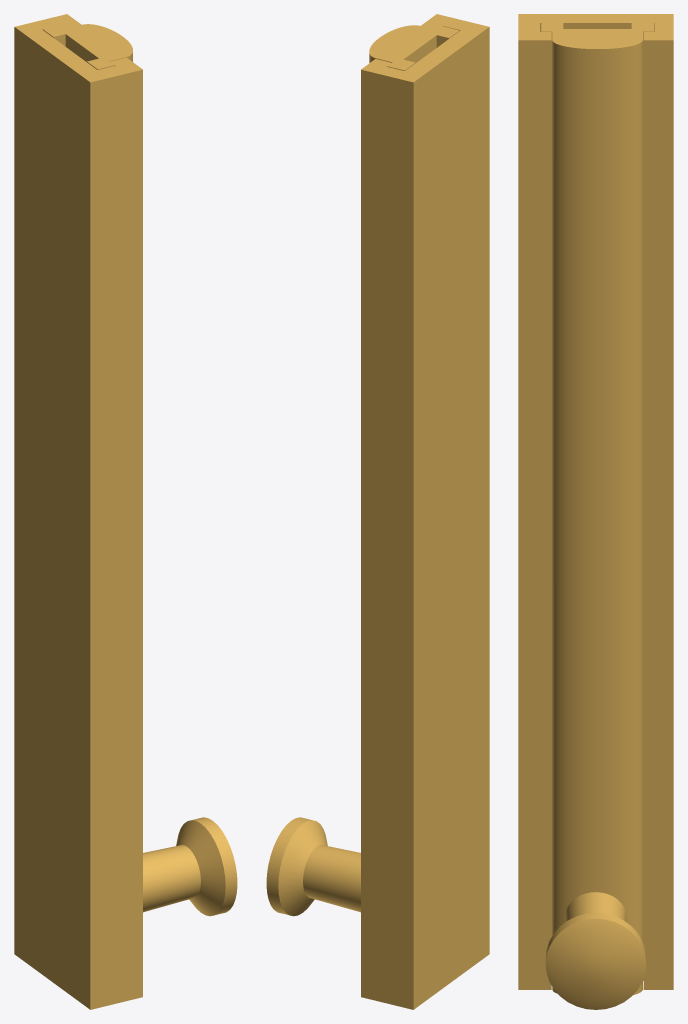
File: doorlock.fbx
The picture shows the model from 3 angles, left to right: view 1: azimuth 30°, elevation 25°; view 2: azimuth 150°, elevation 25°; view 3: azimuth 270°, elevation 25°; orthographic projection. The views are drawn at different scales.
Visible parts, largest first — view 1: 立方体.023, 柱体.020; view 2: 立方体.023, 柱体.020; view 3: 柱体.020, 立方体.023.
Part boxes in pixels (x1,y1,x2,y2): 立方体.023: (14, 14, 142, 1009); 柱体.020: (42, 24, 237, 916); 立方体.023: (361, 14, 489, 1009); 柱体.020: (266, 25, 459, 916); 柱体.020: (541, 23, 653, 1009); 立方体.023: (518, 14, 673, 989).
Bounding box in the file's own units: 19.24 × 101 × 15.
